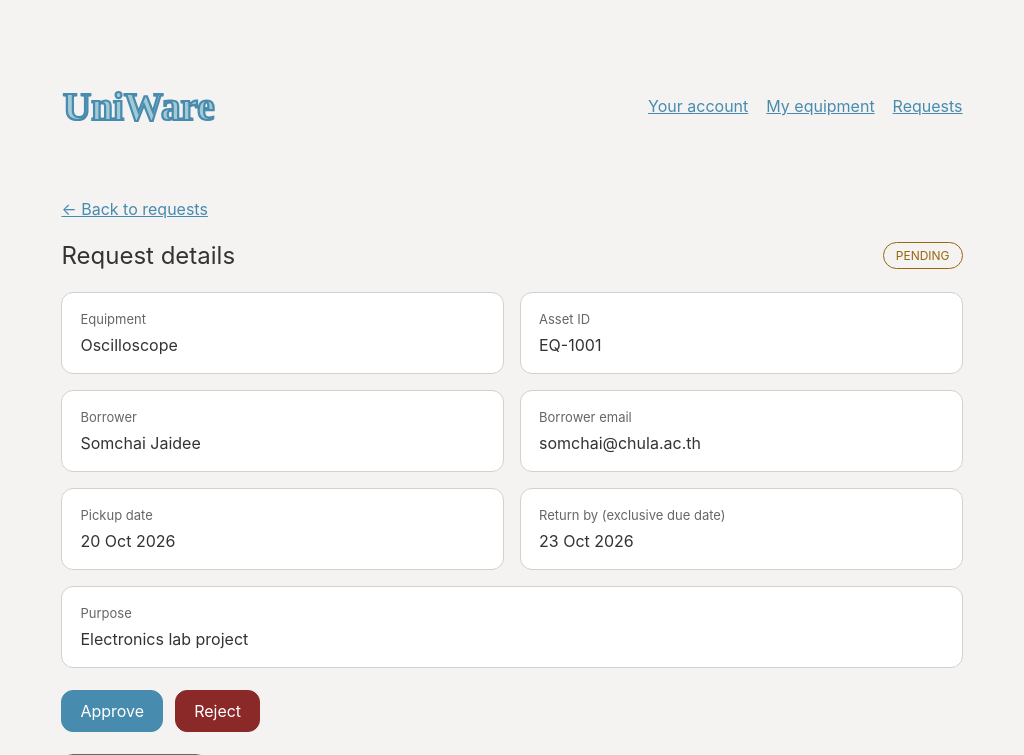
Test: US5-2 / US5-3 / US5-4 provider decisions › shows details and opens confirmation before approving a PENDING request
Expected: the text "Electronics lab project" is shown, [80,629,248,649]
Click the button "Approve": click(112, 711) [61,690,163,732]
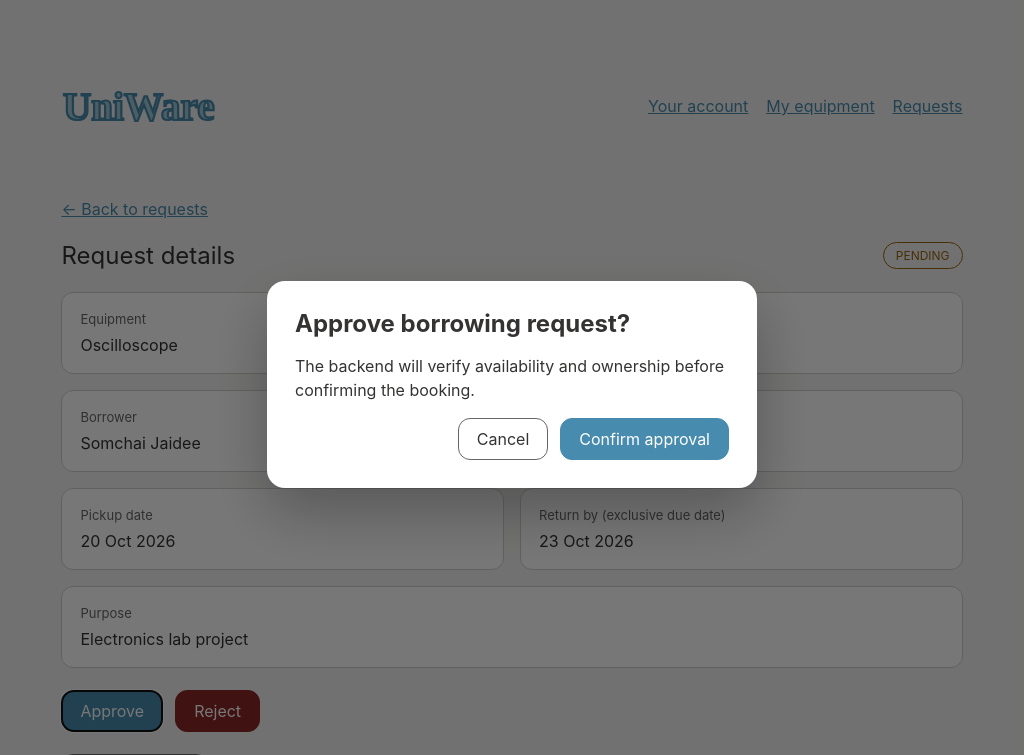
Expected: the dialog "Approve borrowing request?" is shown, [267,280,757,488]
Click the button "Confirm approval": click(645, 438) [560,418,729,460]
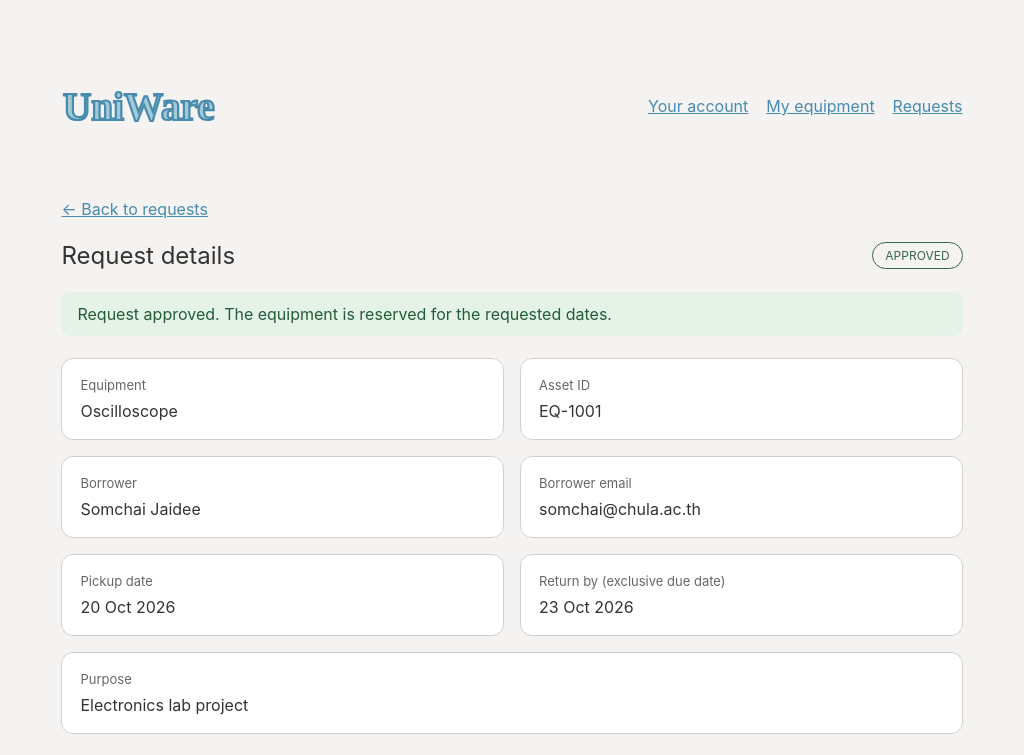
Expected: the text "Request approved. The equipment is reserved for the requested dates." is shown, [61,292,962,336]
Expected: the text "APPROVED" is shown, [872,242,963,269]
Expected: the dialog is gone
